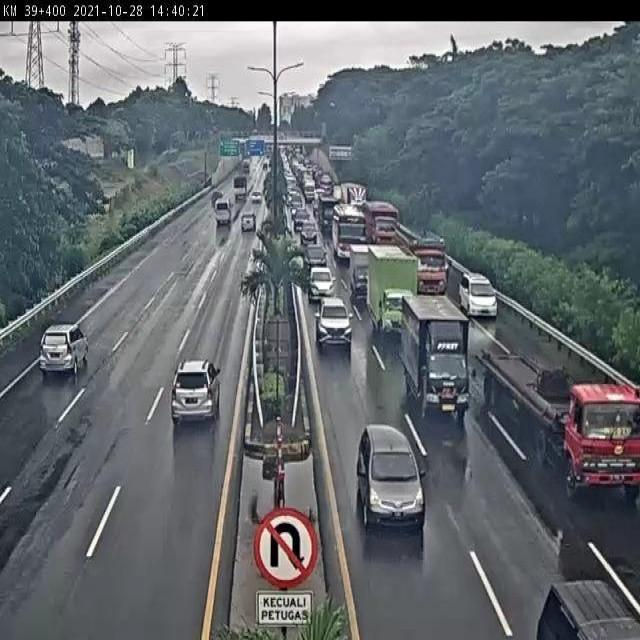bus-l-: (331, 207, 368, 260)
car: (354, 424, 426, 531), (171, 358, 221, 426), (38, 325, 89, 376), (457, 274, 500, 322), (315, 294, 352, 342), (307, 267, 336, 301), (301, 241, 329, 272)
truck-l-: (397, 223, 449, 296)
truck-m-: (400, 292, 469, 420), (366, 247, 417, 336)
truck-s-: (349, 244, 376, 303)
truck-xl-: (481, 351, 640, 493)
